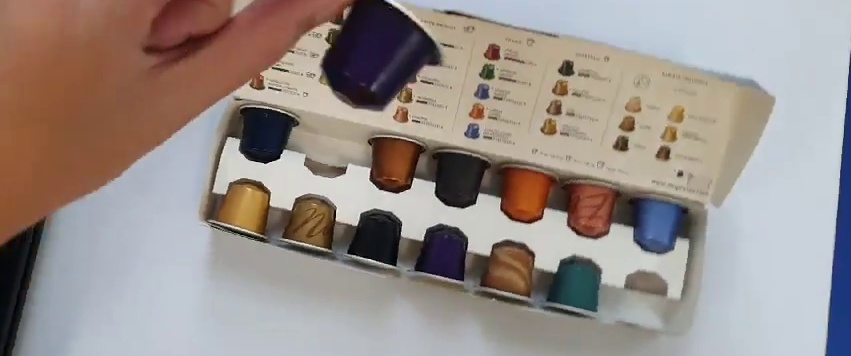capsule_2: (319, 1, 445, 113)
